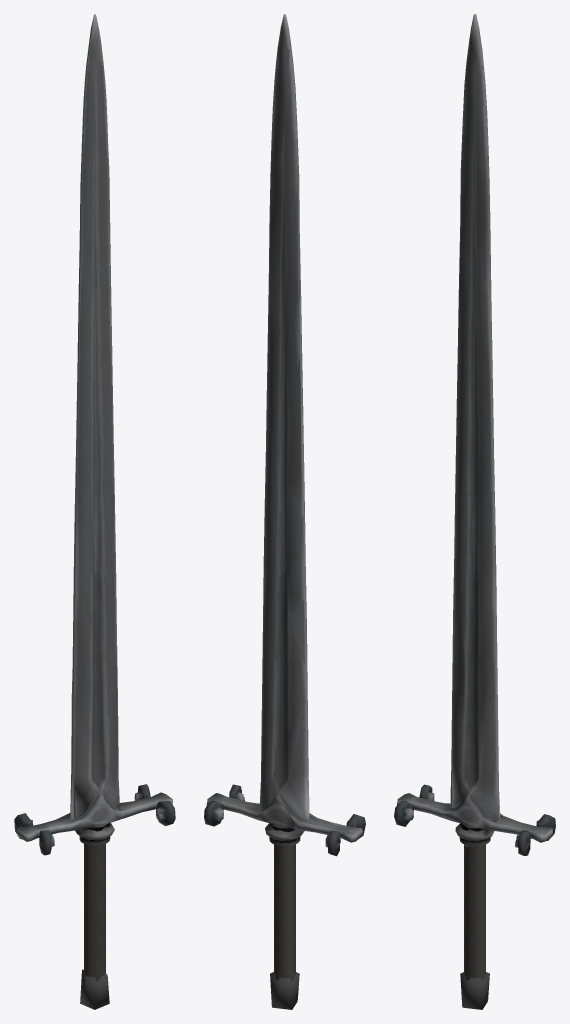
The model's file is estoc.glb.
3 views of the same model, side by side, from view 1: azimuth 30°, elevation 25°; view 2: azimuth 150°, elevation 25°; view 3: azimuth 330°, elevation 25° (orthographic).
Parts seen in each view (by area): view 1: WeaponDrawn; view 2: WeaponDrawn; view 3: WeaponDrawn.
Boxes of the visible parts, x1=… form: WeaponDrawn: x1=14, y1=14, x2=175, y2=1009; WeaponDrawn: x1=204, y1=14, x2=365, y2=1009; WeaponDrawn: x1=394, y1=14, x2=555, y2=1009.
Bounding box in the file's own units: 0.201 × 1.28 × 0.0777.
Materials: 2 (2 with a texture image).
